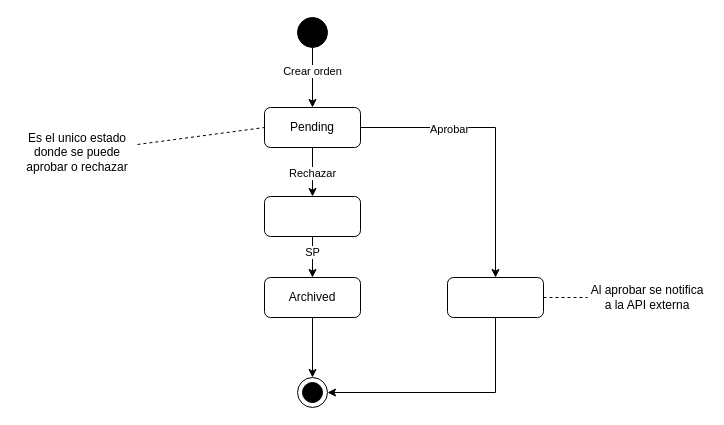
Some shapes in this 724 by 425 pixel diagram are drawn without their labels. The shapes that lost their labels are listed below. From the top down, each one's box as (x1, y1, x2, y2) in pixels, then its label:
(264, 196, 360, 236): Rejected
(446, 276, 544, 318): Approved
